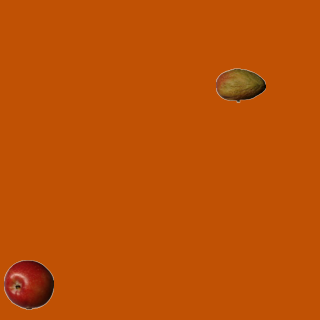Apple Braeburn: (3, 259, 53, 309)
Papaya: (215, 60, 265, 110)
